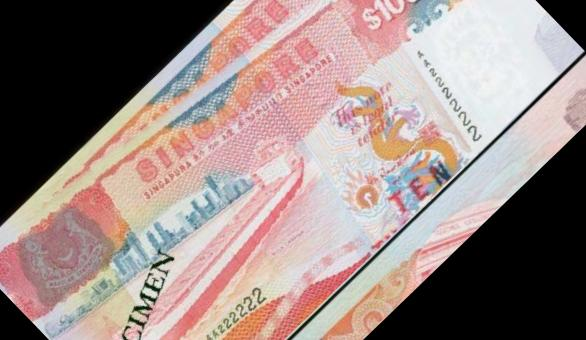10000SingaporeDollar: (0, 0, 584, 340)
